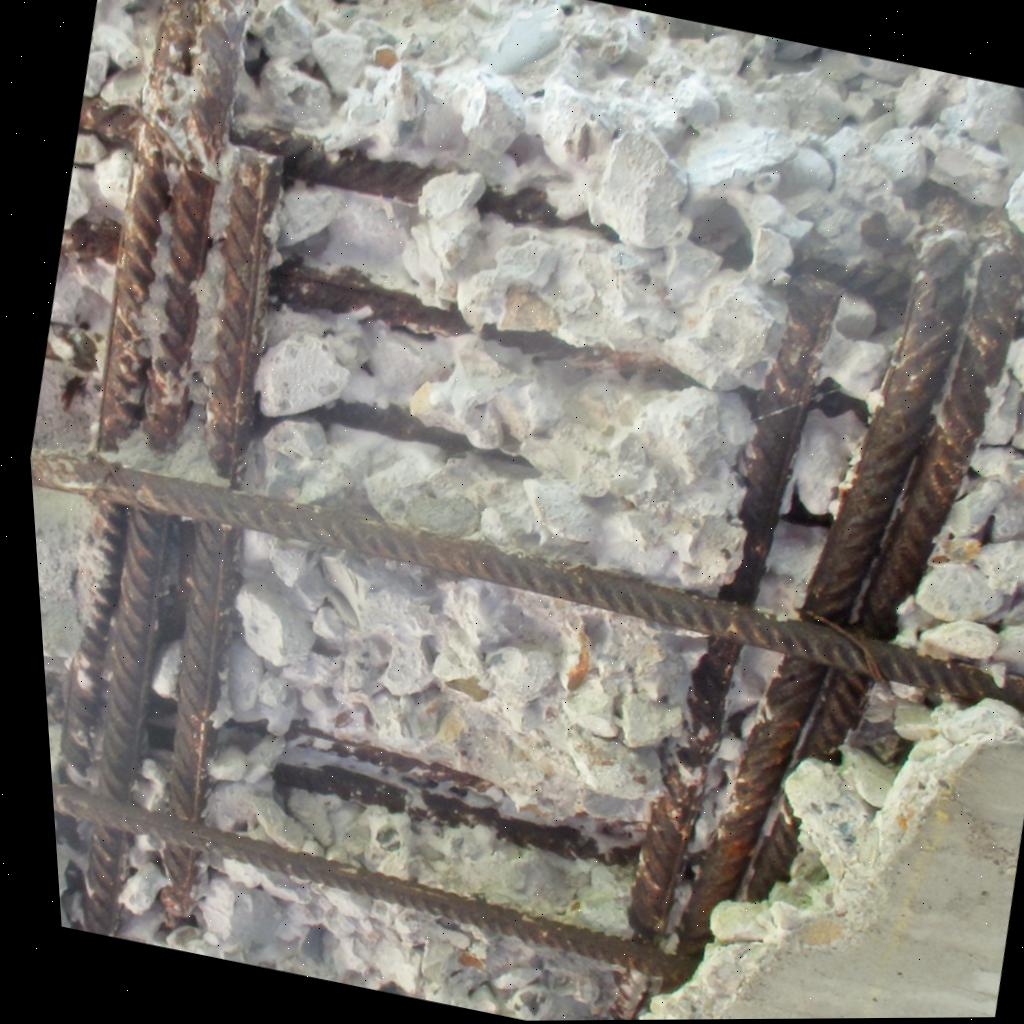exposed_rebar: (31, 0, 1024, 987), (800, 193, 1024, 639), (672, 656, 868, 954), (719, 274, 840, 605), (628, 639, 740, 939)
spalling: (31, 0, 1024, 1021)
